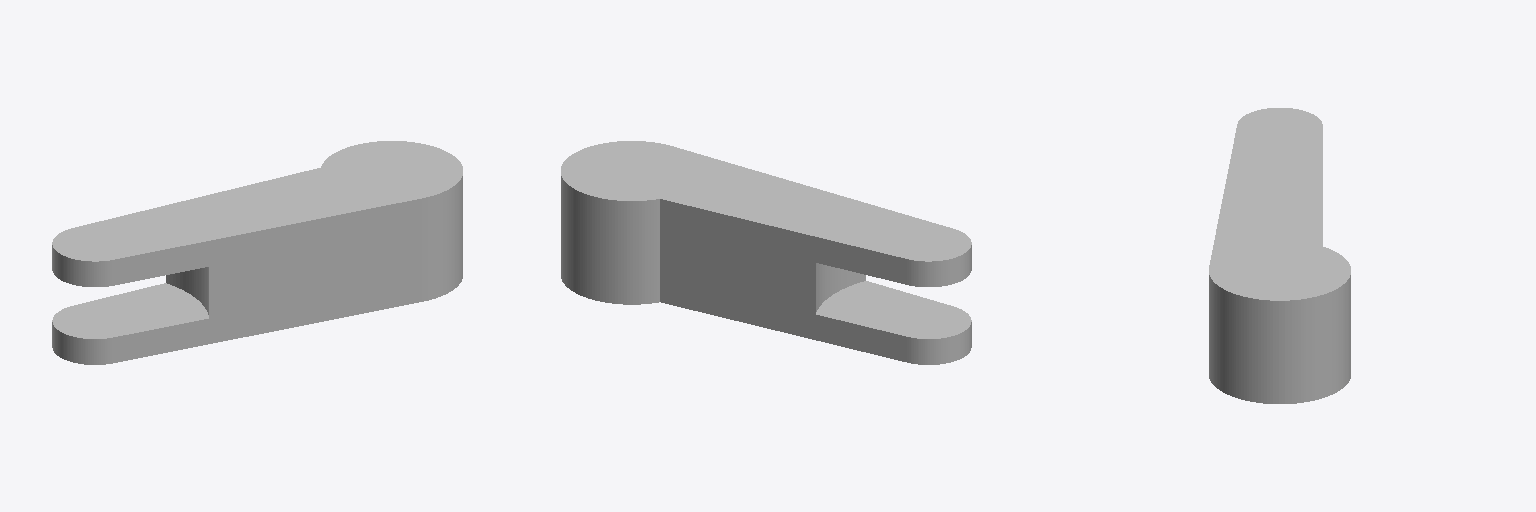
Rendered from Mover.obj.
3 views of the same model, side by side, from view 1: azimuth 30°, elevation 25°; view 2: azimuth 150°, elevation 25°; view 3: azimuth 270°, elevation 25° (orthographic).
Parts seen in each view (by area): view 1: Mover; view 2: Mover; view 3: Mover.
Part boxes in pixels (left/top/right/bottom): Mover: left=52, top=141, right=462, bottom=364; Mover: left=561, top=141, right=971, bottom=364; Mover: left=1209, top=108, right=1350, bottom=403.
Size of the model in its own units: 0.8 by 0.2 by 0.2499.